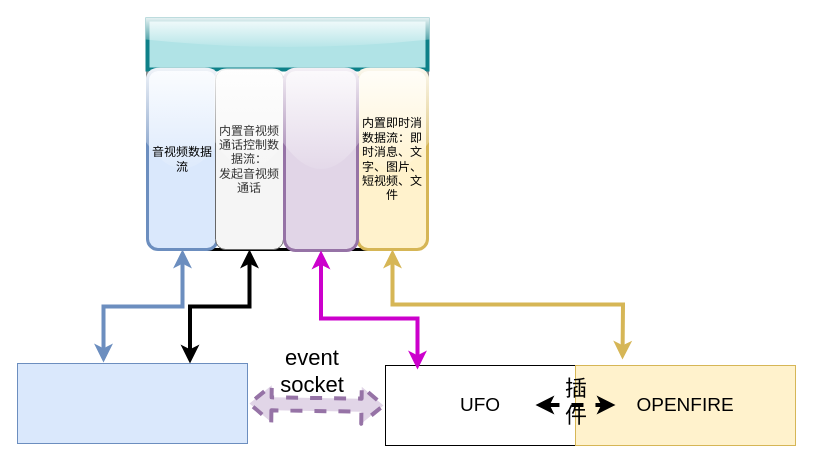
This 813x463 diagram has some shape labels left out. Each missing label, with the box of its shape:
APP: (145, 17, 429, 71)
FREESWITCH: (16, 362, 248, 444)
REST API控制数据流：配置管理、调度接口: (282, 68, 358, 252)
